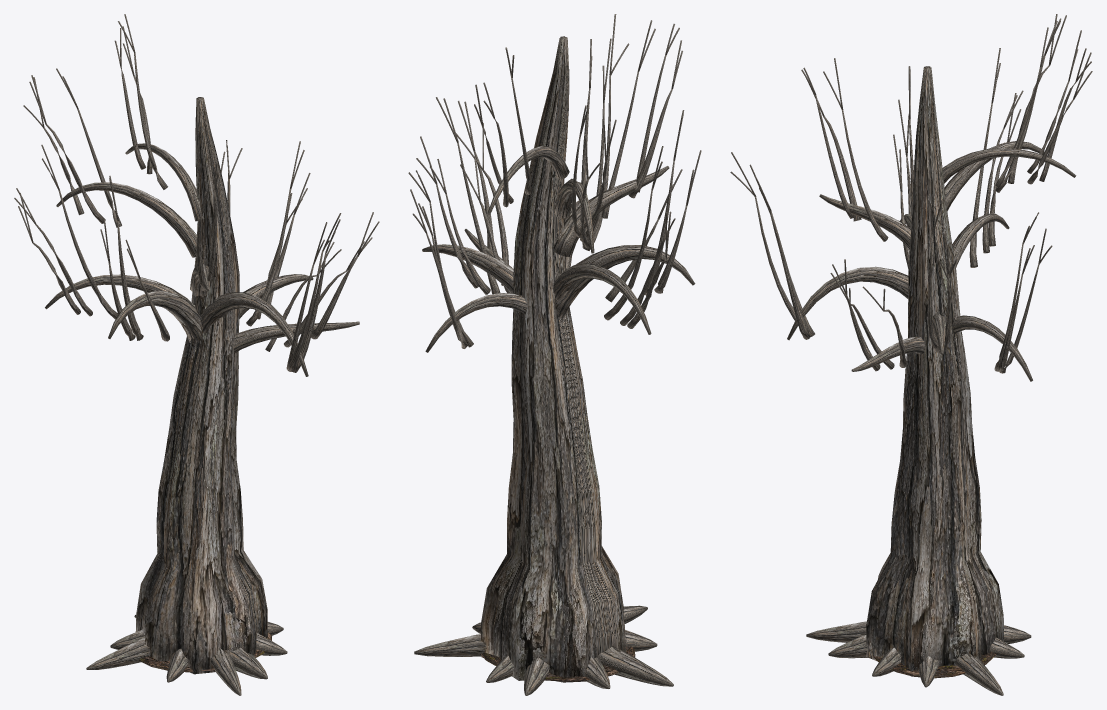
File: ancient-dead-oak-v01.glb
3 views of the same model, side by side, from view 1: azimuth 30°, elevation 25°; view 2: azimuth 150°, elevation 25°; view 3: azimuth 270°, elevation 25° (orthographic). The views are drawn at different scales.
Parts seen in each view (by area): view 1: deeply furrowed winding trunk, massive gnarled bough.003, massive gnarled bough.007, massive gnarled bough.005, massive gnarled bough.004, massive gnarled bough.008, radiating buttress root.005, massive gnarled bough.002, radiating buttress root.007, radiating buttress root.008, massive gnarled bough, forked weathered limb.014 (+4 smaller); view 2: deeply furrowed winding trunk, massive gnarled bough.005, massive gnarled bough.006, massive gnarled bough.004, radiating buttress root.005, massive gnarled bough.001, massive gnarled bough, radiating buttress root.001, massive gnarled bough.003, massive gnarled bough.002, radiating buttress root.003, forked weathered limb.018 (+13 smaller); view 3: deeply furrowed winding trunk, massive gnarled bough.007, massive gnarled bough.002, massive gnarled bough.006, massive gnarled bough.003, massive gnarled bough.001, radiating buttress root.001, massive gnarled bough.008, radiating buttress root.007, massive gnarled bough.004, forked weathered limb.022, subtle root and soil mound (+3 smaller).
Part boxes in pixels (x1=…): deeply furrowed winding trunk: x1=135, y1=97, x2=267, y2=674; massive gnarled bough.003: x1=56, y1=182, x2=204, y2=257; massive gnarled bough.007: x1=200, y1=292, x2=308, y2=376; massive gnarled bough.005: x1=108, y1=291, x2=203, y2=342; massive gnarled bough.004: x1=45, y1=274, x2=194, y2=309; massive gnarled bough.008: x1=233, y1=321, x2=359, y2=353; radiating buttress root.005: x1=86, y1=637, x2=149, y2=669; massive gnarled bough.002: x1=125, y1=143, x2=204, y2=221; radiating buttress root.007: x1=210, y1=648, x2=241, y2=695; radiating buttress root.008: x1=230, y1=647, x2=267, y2=679; massive gnarled bough: x1=239, y1=274, x2=313, y2=318; forked weathered limb.014: x1=58, y1=190, x2=118, y2=319; deeply furrowed winding trunk: x1=481, y1=36, x2=625, y2=682; massive gnarled bough.005: x1=555, y1=245, x2=695, y2=318; massive gnarled bough.006: x1=553, y1=166, x2=669, y2=257; massive gnarled bough.004: x1=553, y1=263, x2=651, y2=334; radiating buttress root.005: x1=598, y1=646, x2=673, y2=686; massive gnarled bough.001: x1=425, y1=293, x2=527, y2=352; massive gnarled bough: x1=422, y1=244, x2=513, y2=293; radiating buttress root.001: x1=414, y1=634, x2=485, y2=656; massive gnarled bough.003: x1=554, y1=178, x2=594, y2=253; massive gnarled bough.002: x1=487, y1=146, x2=569, y2=214; radiating buttress root.003: x1=524, y1=657, x2=549, y2=695; forked weathered limb.018: x1=628, y1=89, x2=672, y2=198; deeply furrowed winding trunk: x1=866, y1=66, x2=1003, y2=676; massive gnarled bough.007: x1=787, y1=266, x2=908, y2=340; massive gnarled bough.002: x1=942, y1=148, x2=1076, y2=183; massive gnarled bough.006: x1=819, y1=194, x2=910, y2=249; massive gnarled bough.003: x1=944, y1=141, x2=1047, y2=211; massive gnarled bough.001: x1=952, y1=315, x2=1032, y2=381; radiating buttress root.001: x1=955, y1=652, x2=1003, y2=695; massive gnarled bough.008: x1=851, y1=336, x2=924, y2=371; radiating buttress root.007: x1=806, y1=621, x2=866, y2=642; massive gnarled bough.004: x1=952, y1=213, x2=1009, y2=267; forked weathered limb.022: x1=770, y1=211, x2=810, y2=339; subtle root and soil mound: x1=873, y1=652, x2=996, y2=678.
Size of the model in its own units: 5.39 by 11.04 by 5.79.
Materials: 2 (2 with a texture image).
